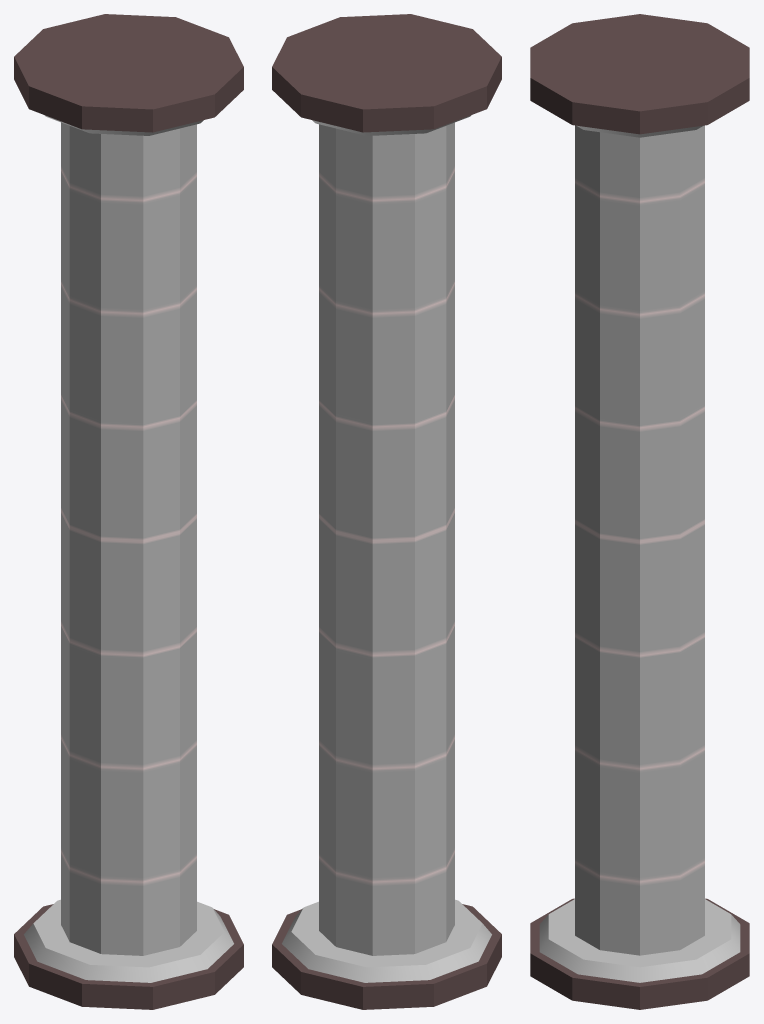
The model's file is pillar.fbx.
3 views of the same model, side by side, from view 1: azimuth 30°, elevation 25°; view 2: azimuth 150°, elevation 25°; view 3: azimuth 270°, elevation 25° (orthographic).
Parts seen in each view (by area): view 1: Low Poly Pillar.002; view 2: Low Poly Pillar.002; view 3: Low Poly Pillar.002.
Part boxes in pixels (<box>): Low Poly Pillar.002: <box>14,14,243,1009</box>; Low Poly Pillar.002: <box>272,14,501,1009</box>; Low Poly Pillar.002: <box>530,14,749,1009</box>.
Bounding box in the file's own units: 4.39 × 18.88 × 4.17.
